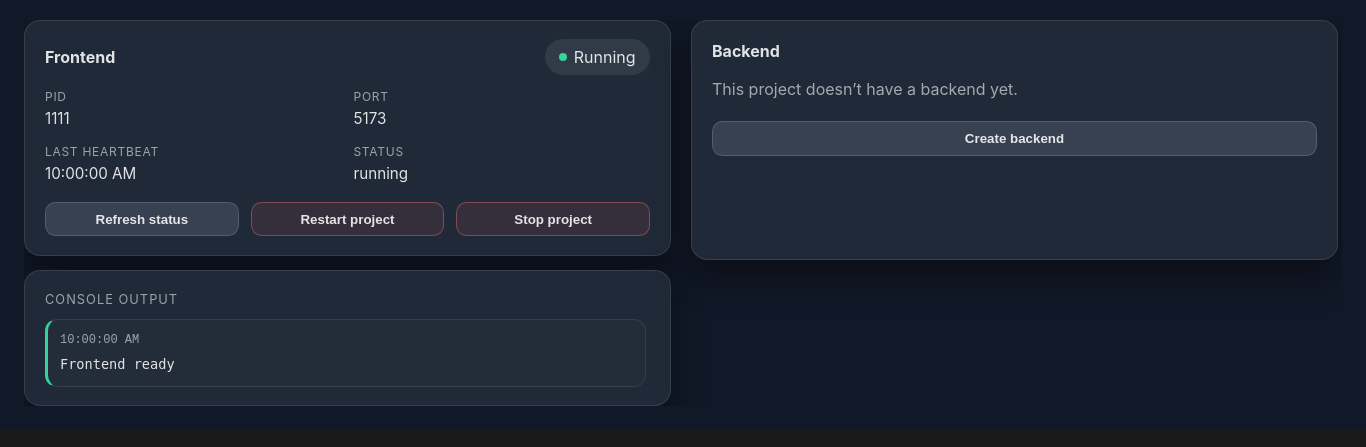
Scenario: ProcessesTab › shows errors when create backend fails
What coordinates should you click on to do the following:
click the button with test id "process-create-backend"
I would click on:
 (1014, 138)
Its box is [712,121,1317,156].
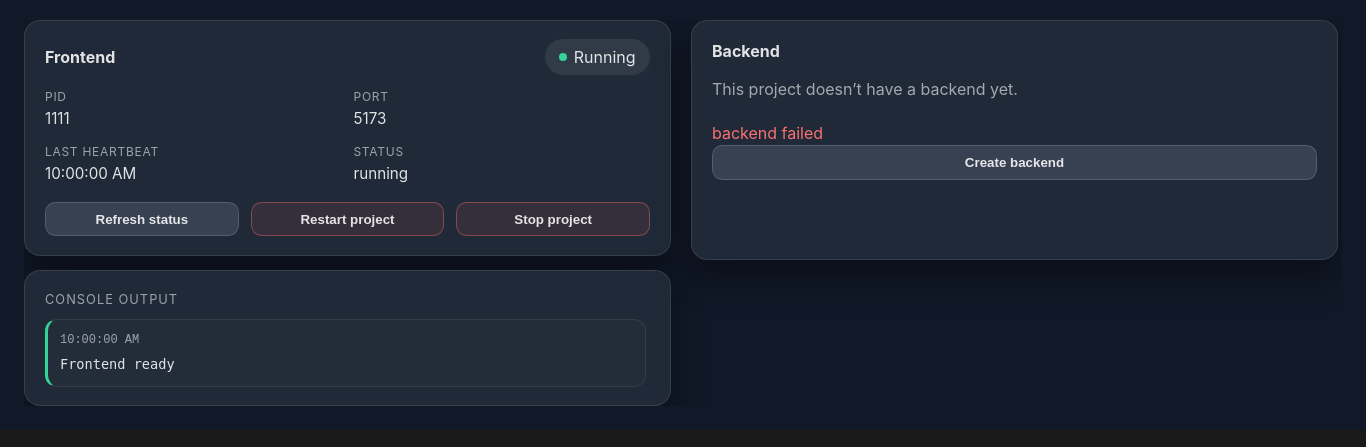
Expected: the button with test id "process-create-backend" is enabled, [712,145,1317,180]
Expected: the text "backend failed" is shown, [712,123,823,143]
